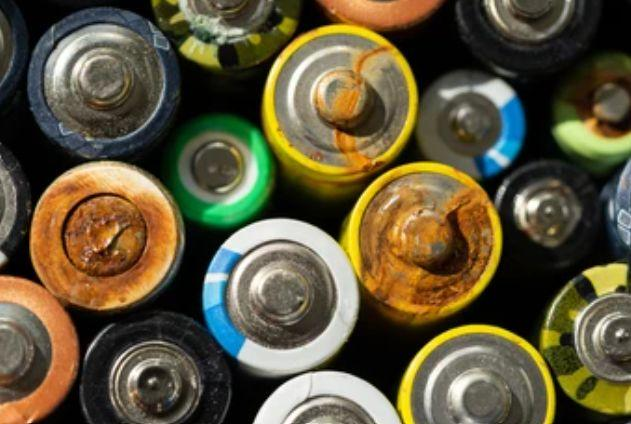battery: (343, 159, 505, 325), (200, 215, 360, 372), (30, 159, 189, 309), (261, 21, 409, 173), (33, 8, 179, 152), (82, 310, 234, 424), (402, 325, 561, 424), (542, 261, 631, 424), (420, 67, 529, 179), (0, 276, 81, 424), (453, 0, 600, 81), (168, 116, 275, 222), (498, 159, 598, 267), (155, 0, 302, 69), (548, 52, 631, 168), (249, 371, 405, 424)
